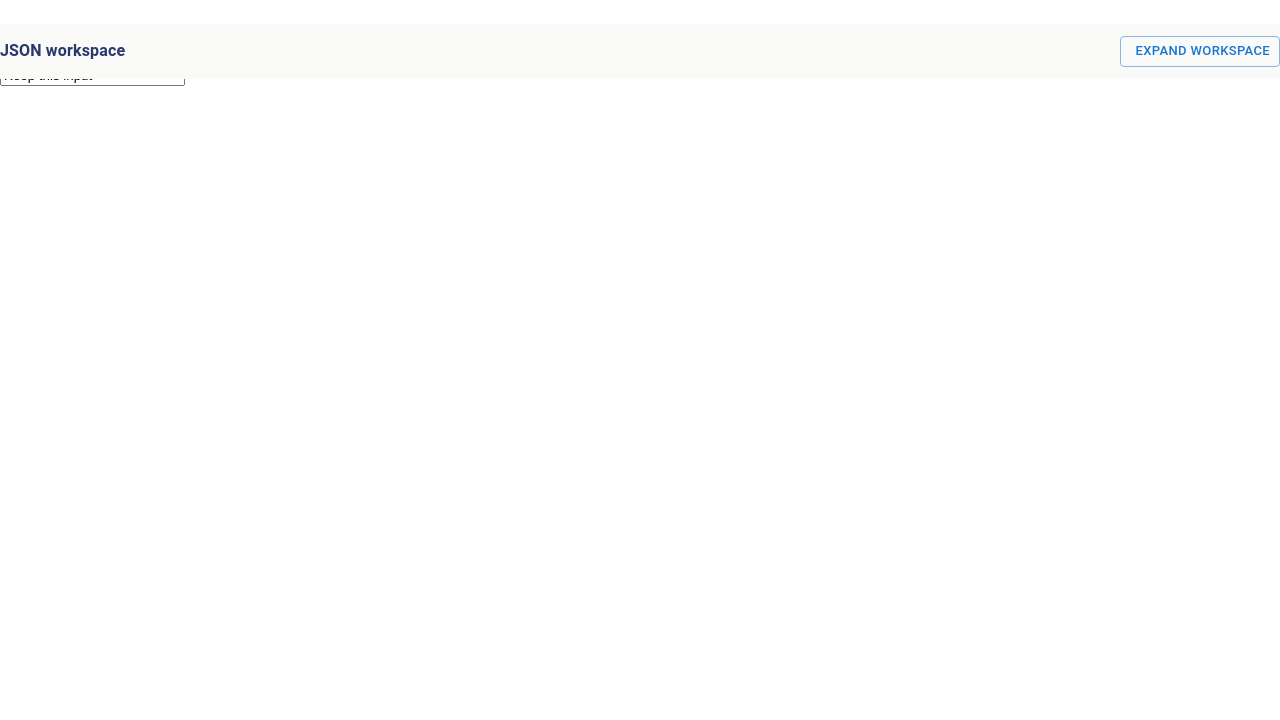
keeps the editor and its input when entering and leaving full screen
The image size is (1280, 720).
Earlier steps of the test are not shown.
Later steps or results of the test are not shown.
Click the button "Expand workspace" at (1200, 51), box [1120,36,1279,67]
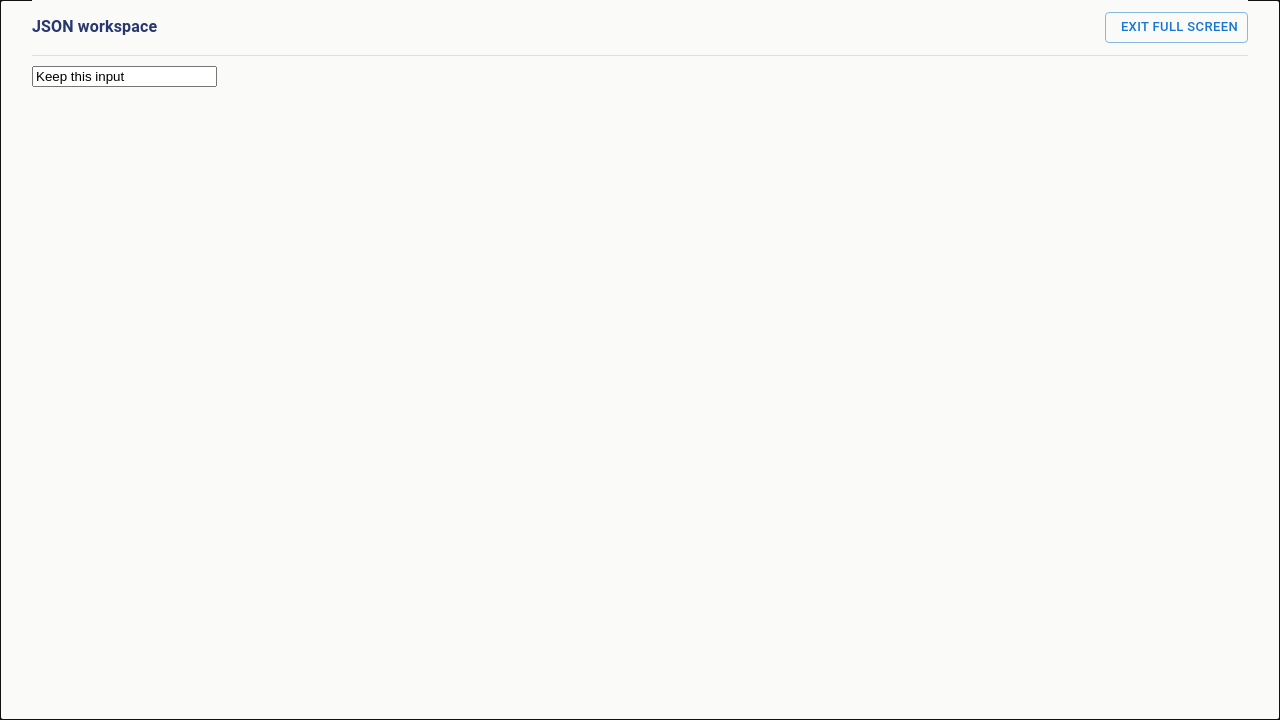
expect the dialog "JSON workspace" has attribute aria-modal="true": met
